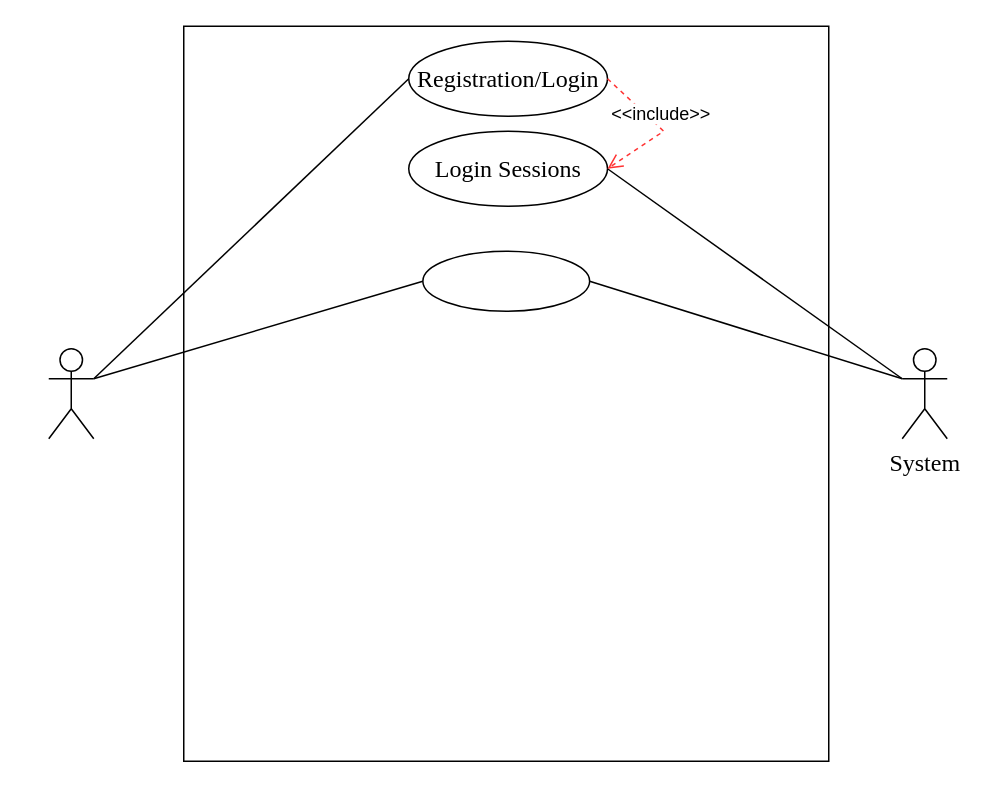
Image size: 986x788. Some labels were removed from this diagram. Each missing label, with the centre of its shape:
Email Fetching: the point at 505,280
End User: the point at 70,393
